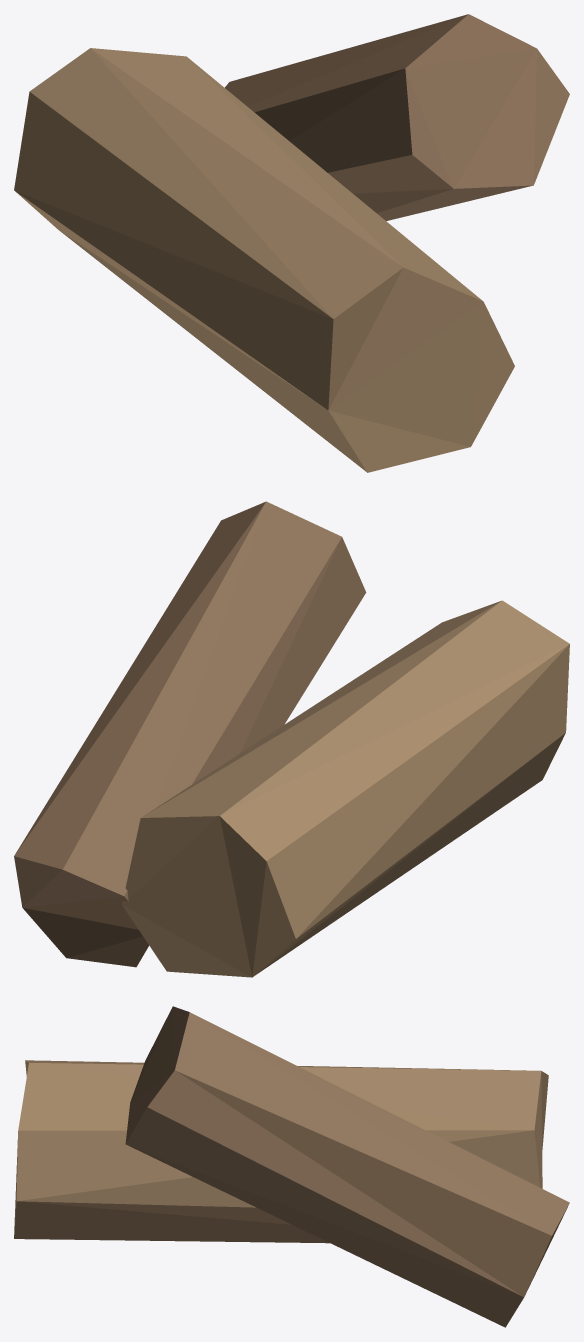
The model's file is Wood.fbx.
The picture shows the model from 3 angles, top to bottom: view 1: azimuth 30°, elevation 25°; view 2: azimuth 150°, elevation 25°; view 3: azimuth 270°, elevation 25°; orthographic projection. The views are drawn at different scales.
Visible parts, largest first — view 1: fam_wood, fam_wood_dark; view 2: fam_wood, fam_wood_dark; view 3: fam_wood_dark, fam_wood.
Part boxes in pixels (x1,y1,x2,y2): fam_wood: (14,48,514,472); fam_wood_dark: (225,14,569,220); fam_wood: (122,600,569,977); fam_wood_dark: (14,501,366,967); fam_wood_dark: (125,1006,569,1327); fam_wood: (14,1060,548,1243).
Size of the model in its own units: 1.02 by 1.14 by 1.89.
